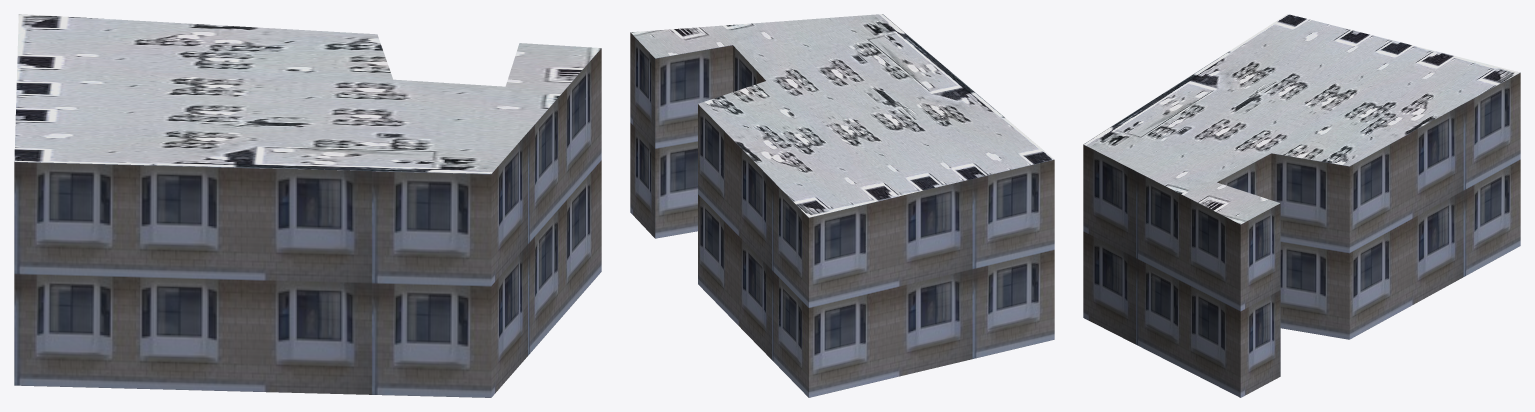
File: ResTex__3661.fbx
3 views of the same model, side by side, from view 1: azimuth 30°, elevation 25°; view 2: azimuth 150°, elevation 25°; view 3: azimuth 270°, elevation 25° (orthographic). The views are drawn at different scales.
Parts seen in each view (by area): view 1: CityEngineMaterial_3_m, CityEngineMaterial_8_m; view 2: CityEngineMaterial_3_m, CityEngineMaterial_8_m; view 3: CityEngineMaterial_3_m, CityEngineMaterial_8_m.
Part boxes in pixels (x1,y1,x2,y2): CityEngineMaterial_3_m: [14, 48, 601, 397]; CityEngineMaterial_8_m: [14, 14, 601, 173]; CityEngineMaterial_3_m: [630, 32, 1054, 397]; CityEngineMaterial_8_m: [631, 14, 1054, 217]; CityEngineMaterial_3_m: [1083, 72, 1520, 397]; CityEngineMaterial_8_m: [1083, 14, 1520, 224].
Size of the model in its own units: 15.62 by 6 by 13.71.
2 materials, 2 textured.
